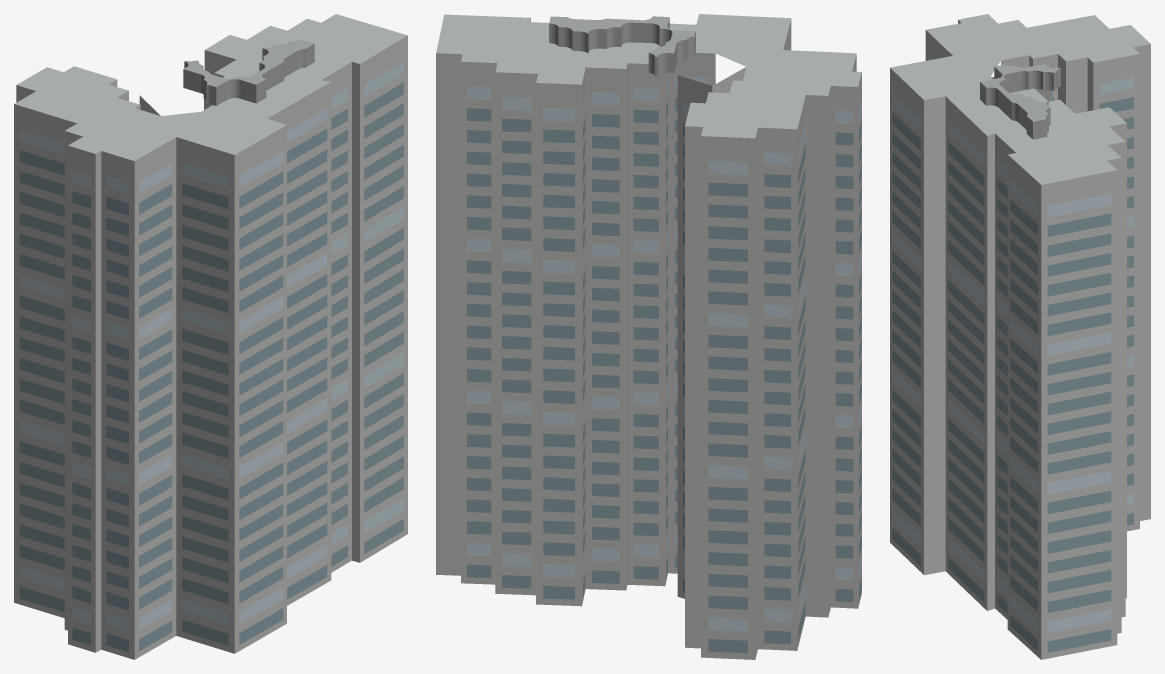
File: fallback-mapo-raemian-prugio-212.glb
3 renders of one model, left to right at view 1: azimuth 30°, elevation 25°; view 2: azimuth 150°, elevation 25°; view 3: azimuth 270°, elevation 25°, orthographic. The views are drawn at different scales.
Visible parts, largest first — view 1: fallback-mapo-raemian-prugio-212; view 2: fallback-mapo-raemian-prugio-212; view 3: fallback-mapo-raemian-prugio-212.
Boxes of the visible parts, box(x1,y1,x2,y2) form: fallback-mapo-raemian-prugio-212: box(14, 14, 407, 659); fallback-mapo-raemian-prugio-212: box(436, 14, 861, 659); fallback-mapo-raemian-prugio-212: box(890, 14, 1150, 659).
Size of the model in its own units: 49.1 by 66 by 31.67.
